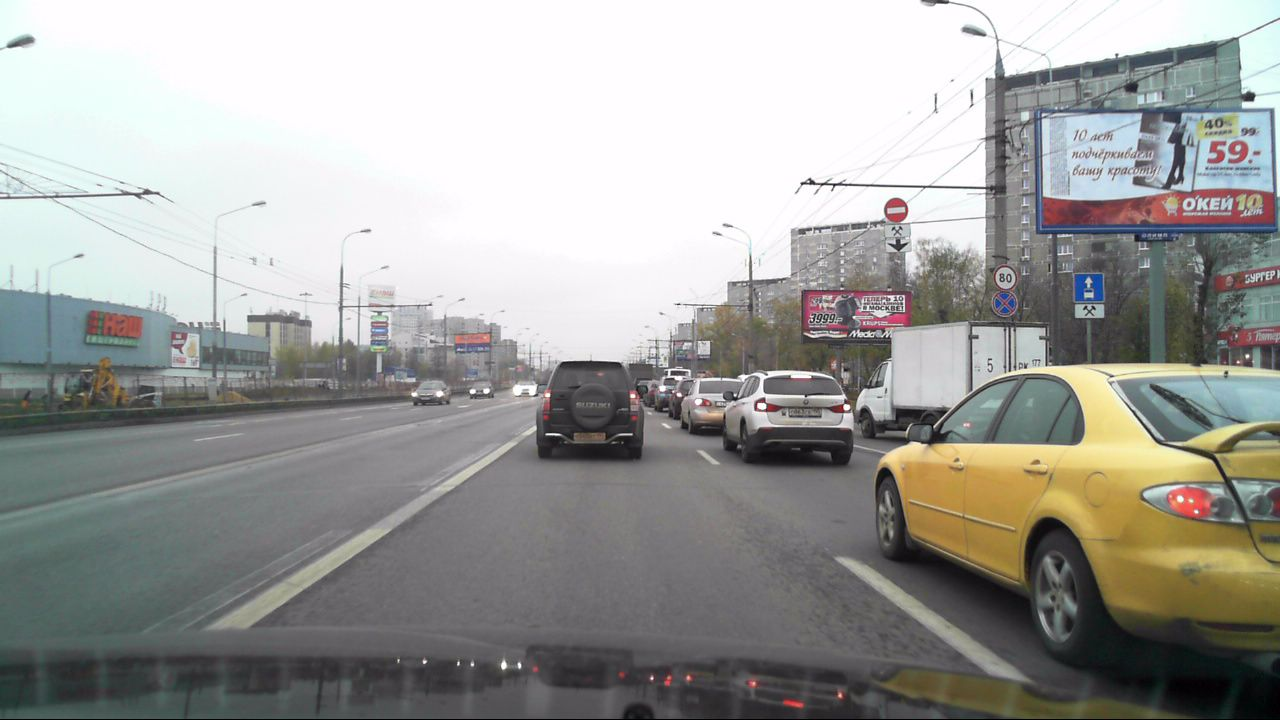No Parking: (991, 293, 1018, 316)
